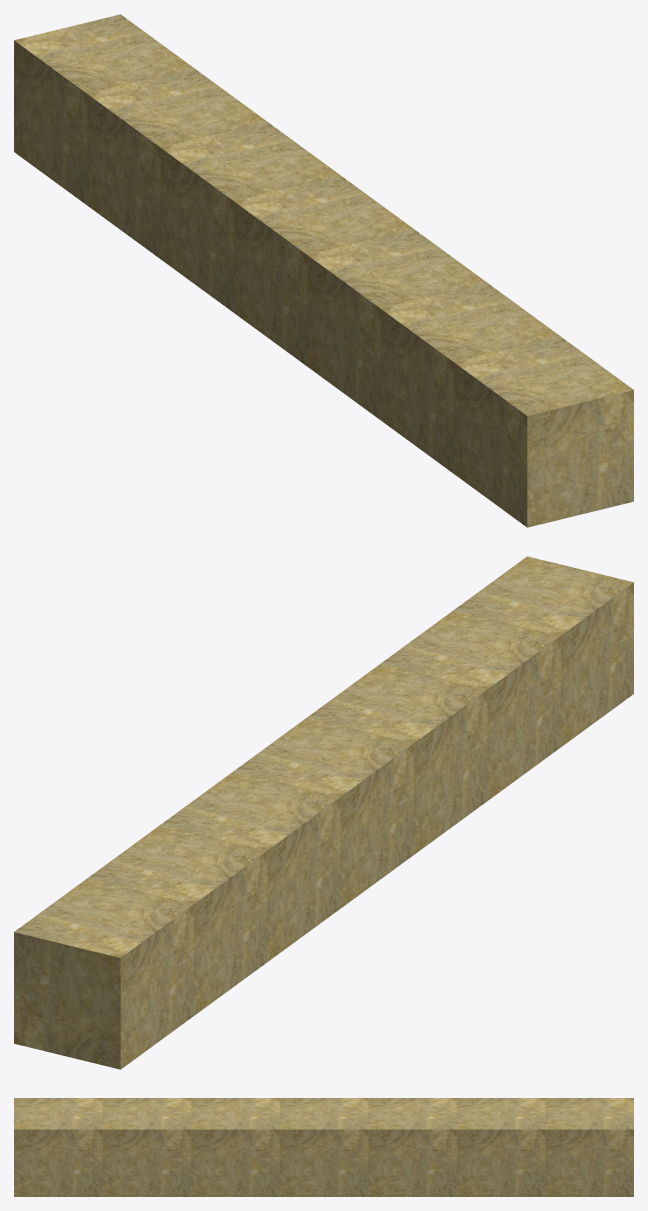
Rendered from rockwool.dae.
3 renders of one model, top to bottom at view 1: azimuth 30°, elevation 25°; view 2: azimuth 150°, elevation 25°; view 3: azimuth 270°, elevation 25°, orthographic. The views are drawn at different scales.
Parts seen in each view (by area): view 1: Cube; view 2: Cube; view 3: Cube.
Part boxes in pixels (x1,y1,x2,y2): Cube: (14,14,633,527); Cube: (14,556,633,1069); Cube: (14,1098,633,1196).
Bounding box in the file's own units: 0.24 × 2 × 0.24.
Materials: 1 (1 with a texture image).
